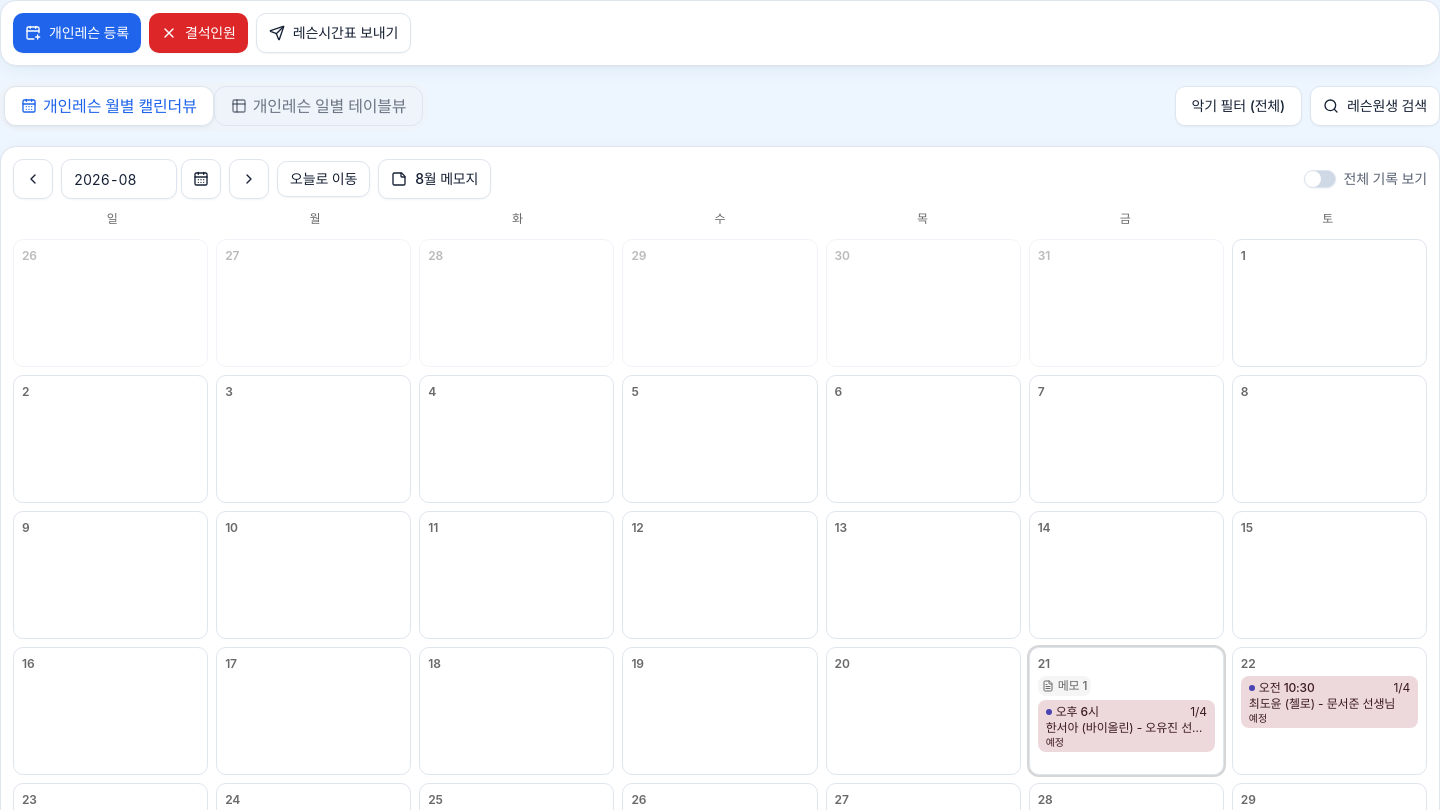
Scenario: LessonManagementWorkspace › 개인레슨표는 월별 캘린더와 모달 없이 출석까지 처리하는 일별 테이블뷰를 함께 제공한다
The width and height of the screenshot is (1440, 810).
Click the tab "개인레슨 일별 테이블뷰" at (319, 106), box [214, 86, 423, 126]
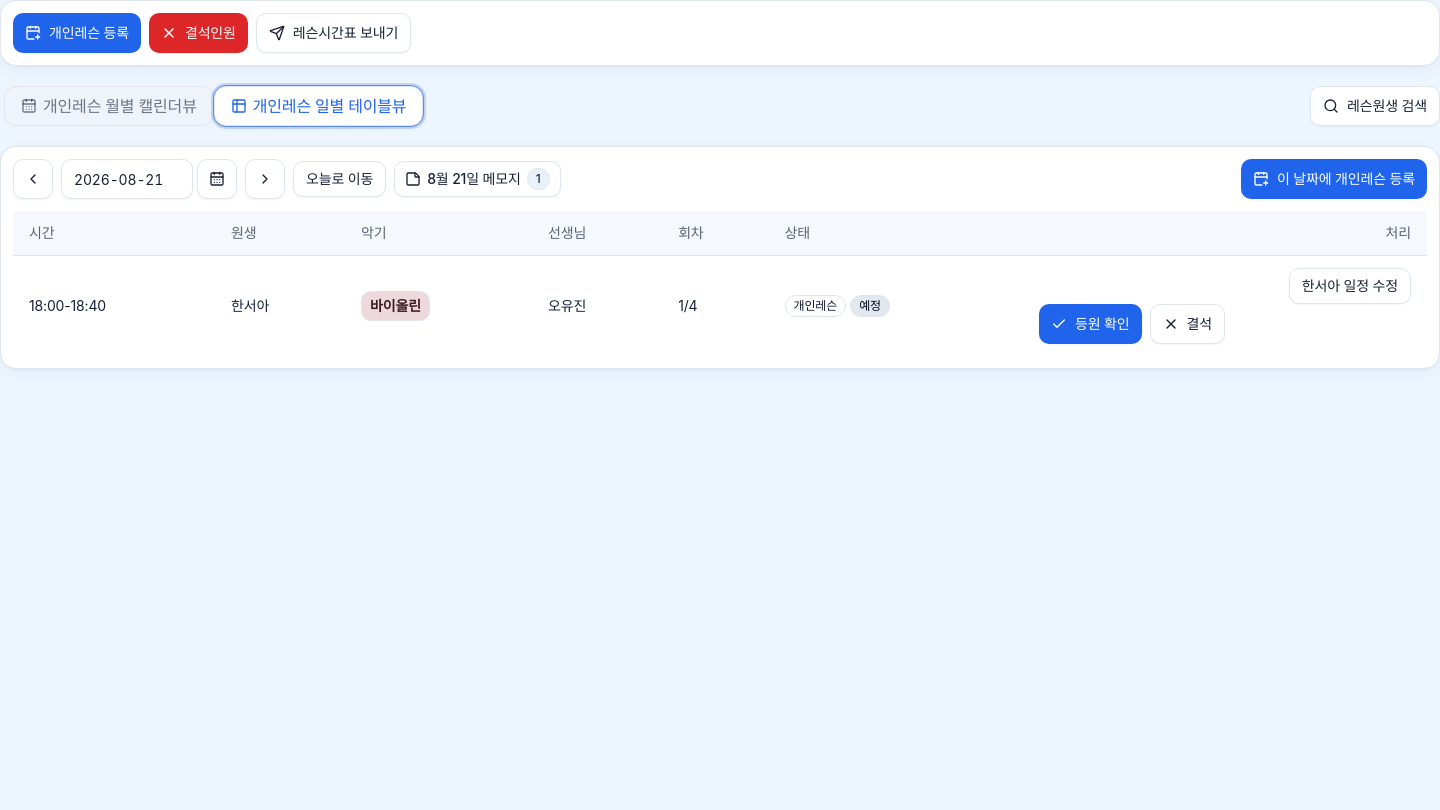
Now the cell "한서아" is shown, box [215, 255, 345, 356]
Now the text "최도윤" is gone
Now the number of cells is 7
Click the button with aria-label "한서아 개인레슨 등원 확인" at (1090, 324), box [1039, 304, 1142, 344]
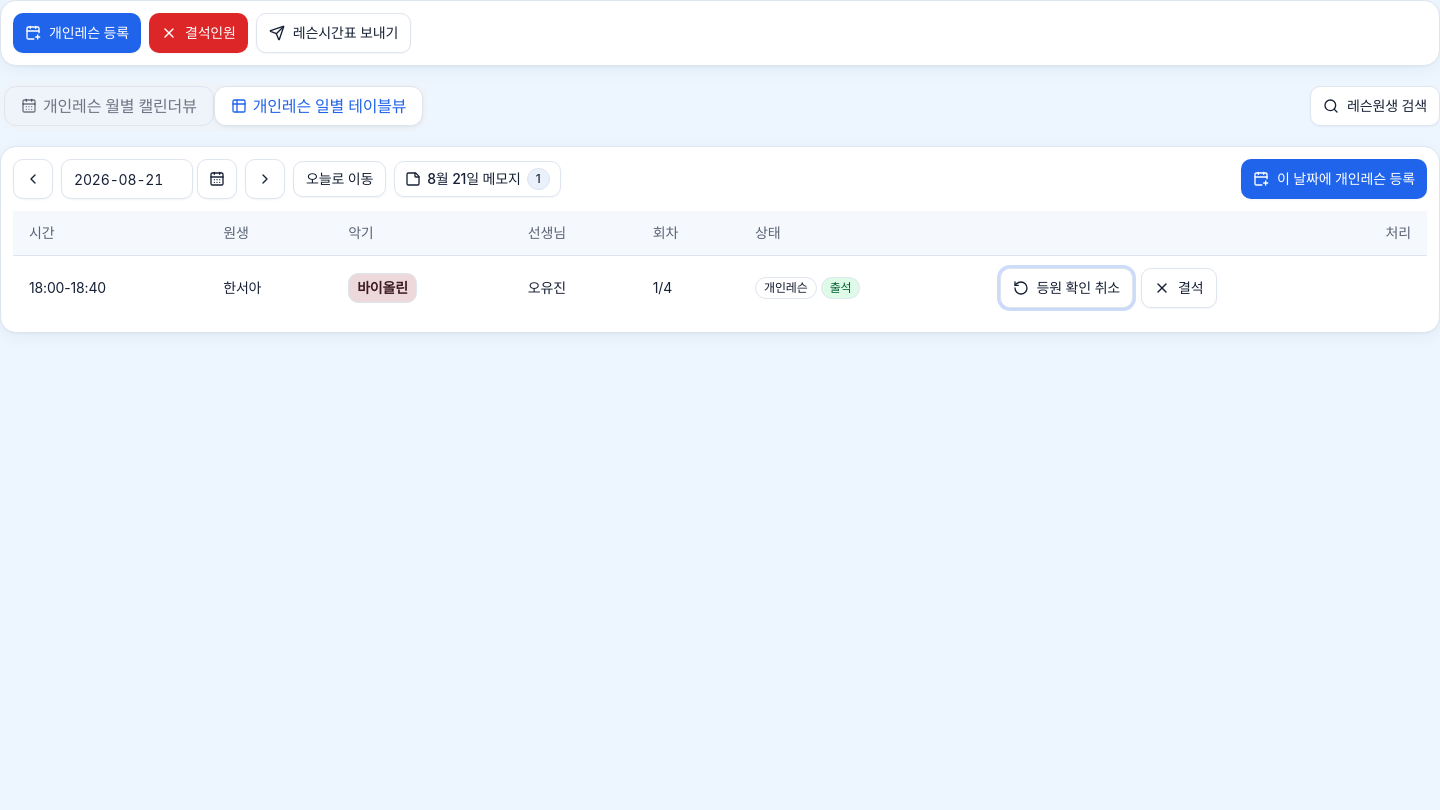
Now the button with aria-label "한서아 개인레슨 등원 확인 취소" is shown, box [1000, 268, 1133, 308]
